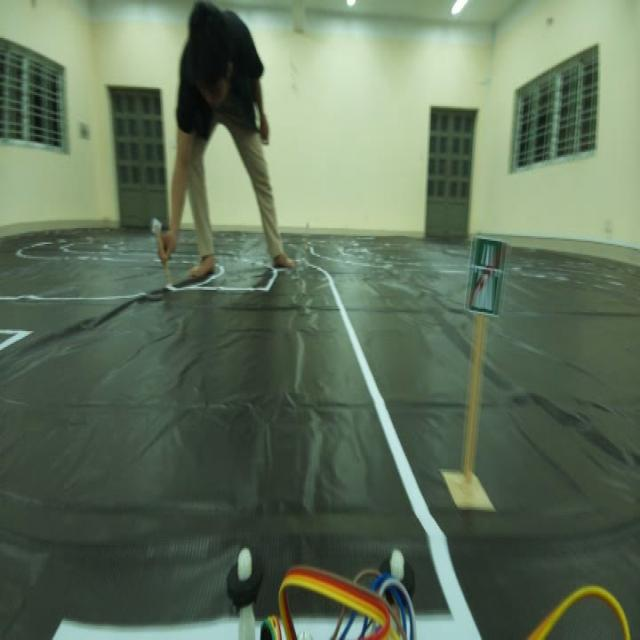highway_exit: (462, 238, 509, 315)
